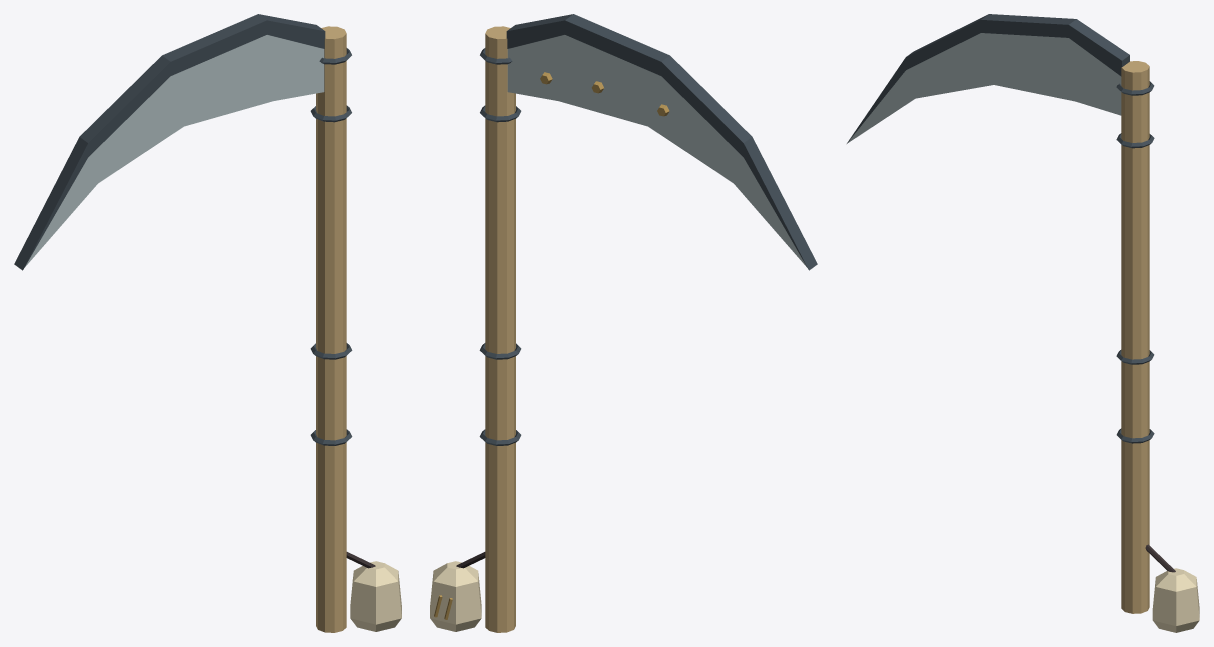
The model's file is Seedkeeper.fbx.
3 renders of one model, left to right at view 1: azimuth 30°, elevation 25°; view 2: azimuth 150°, elevation 25°; view 3: azimuth 330°, elevation 25°, orthographic. The views are drawn at different scales.
Visible parts, largest first — view 1: Legendary_Seedkeeper; view 2: Legendary_Seedkeeper; view 3: Legendary_Seedkeeper.
Part boxes in pixels (x1,y1,x2,y2): Legendary_Seedkeeper: (14, 14, 401, 632); Legendary_Seedkeeper: (430, 14, 817, 632); Legendary_Seedkeeper: (847, 14, 1199, 632).
Size of the model in its own units: 1.12 by 1.76 by 0.137.
